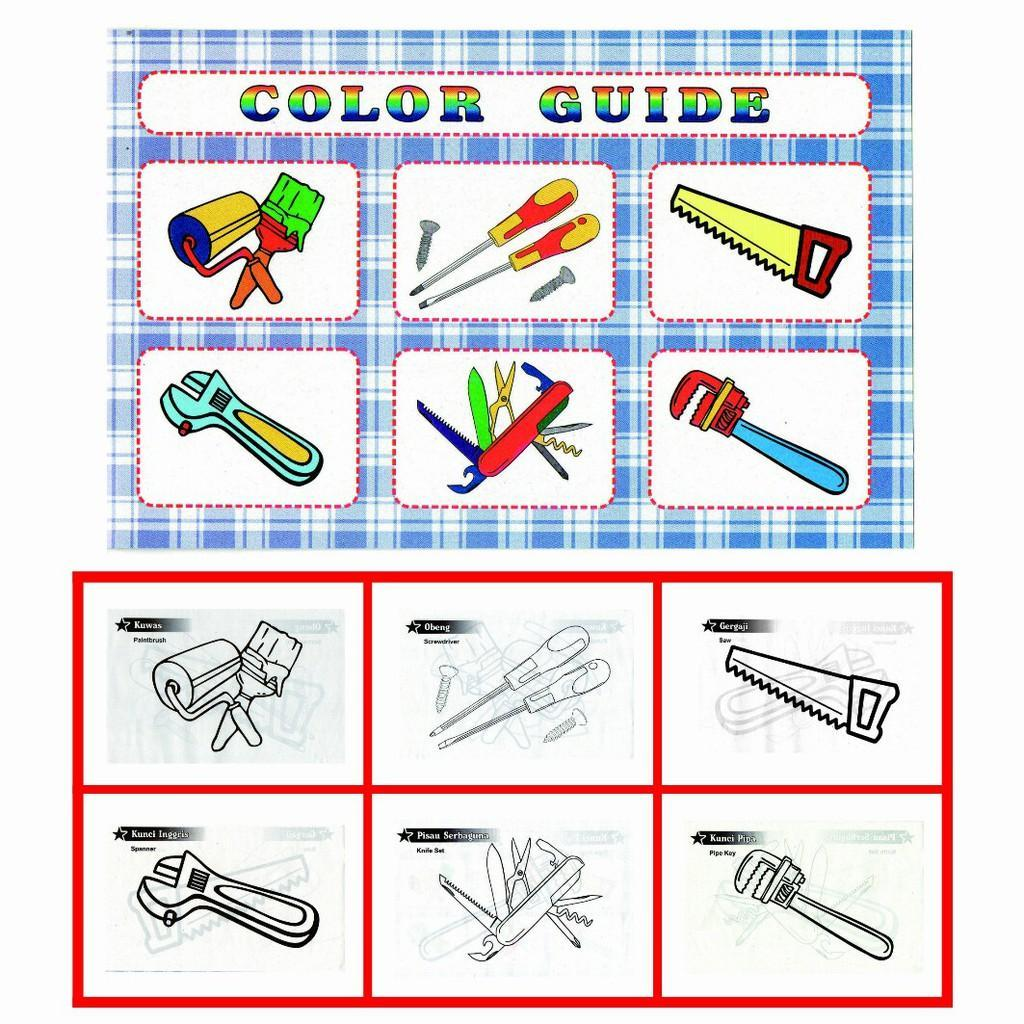faca: (458, 368, 572, 479), (486, 844, 583, 946)
